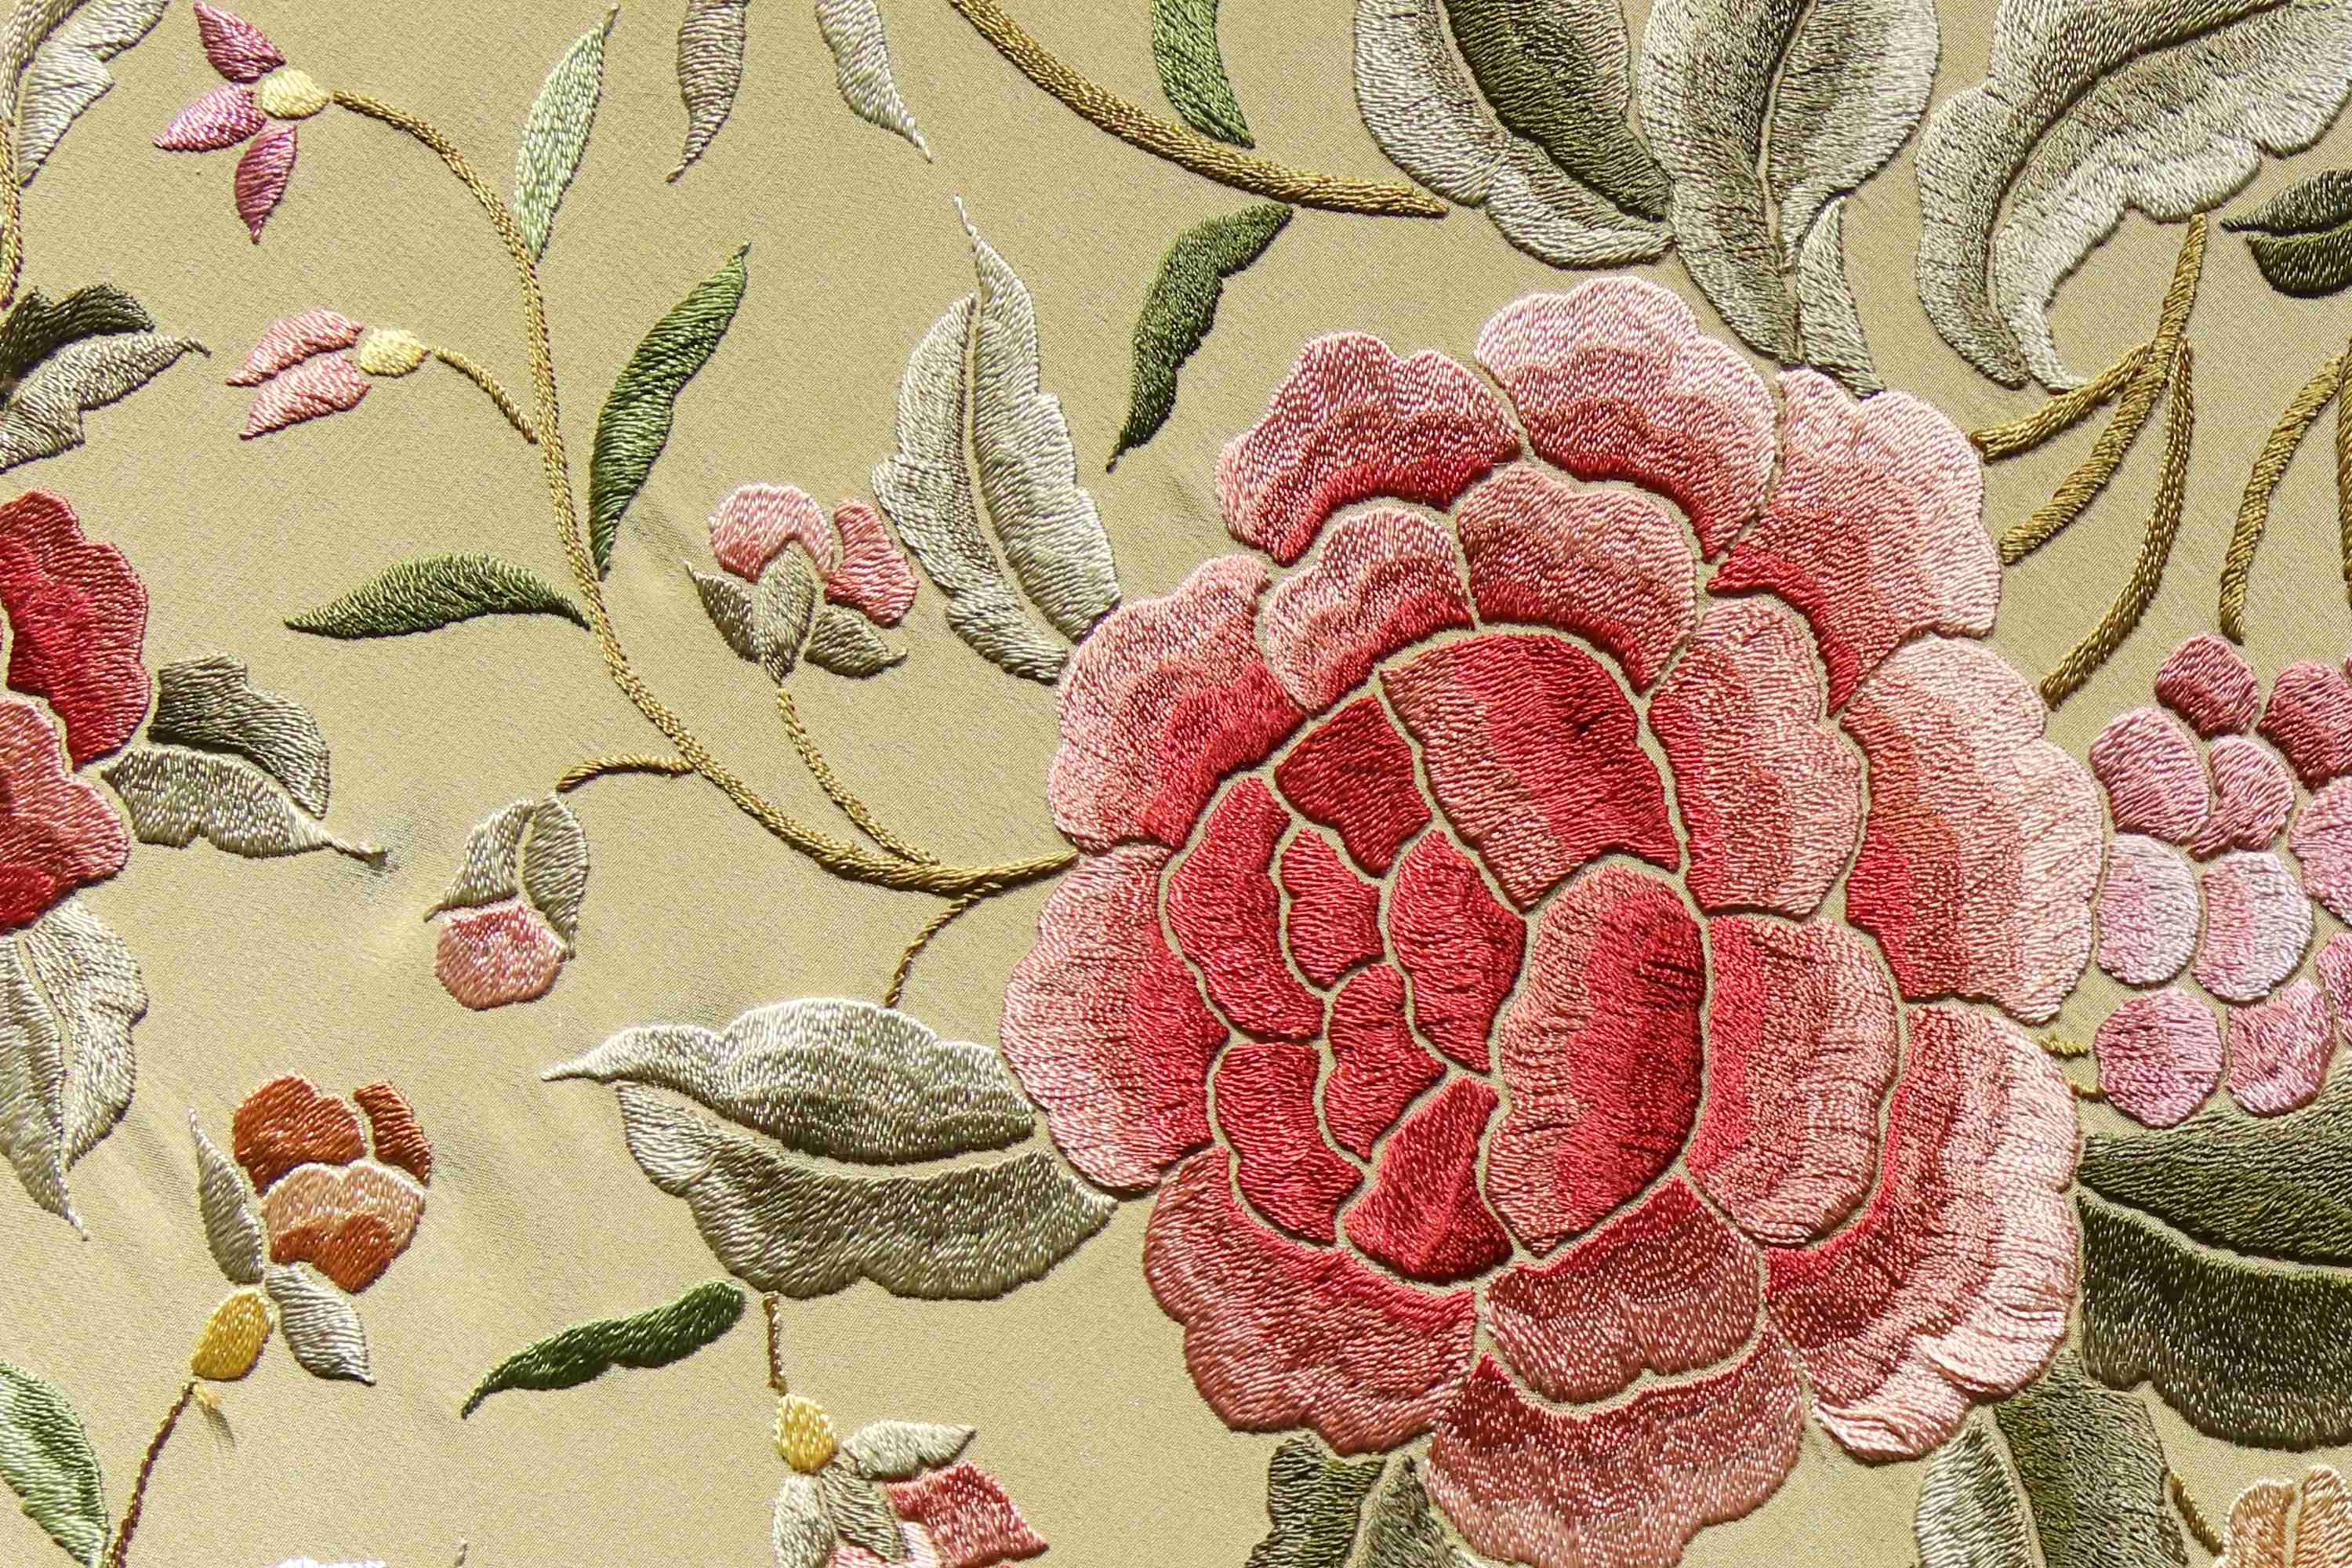flower: (999, 271, 2110, 1568), (2089, 635, 2352, 1123), (0, 492, 152, 926)
